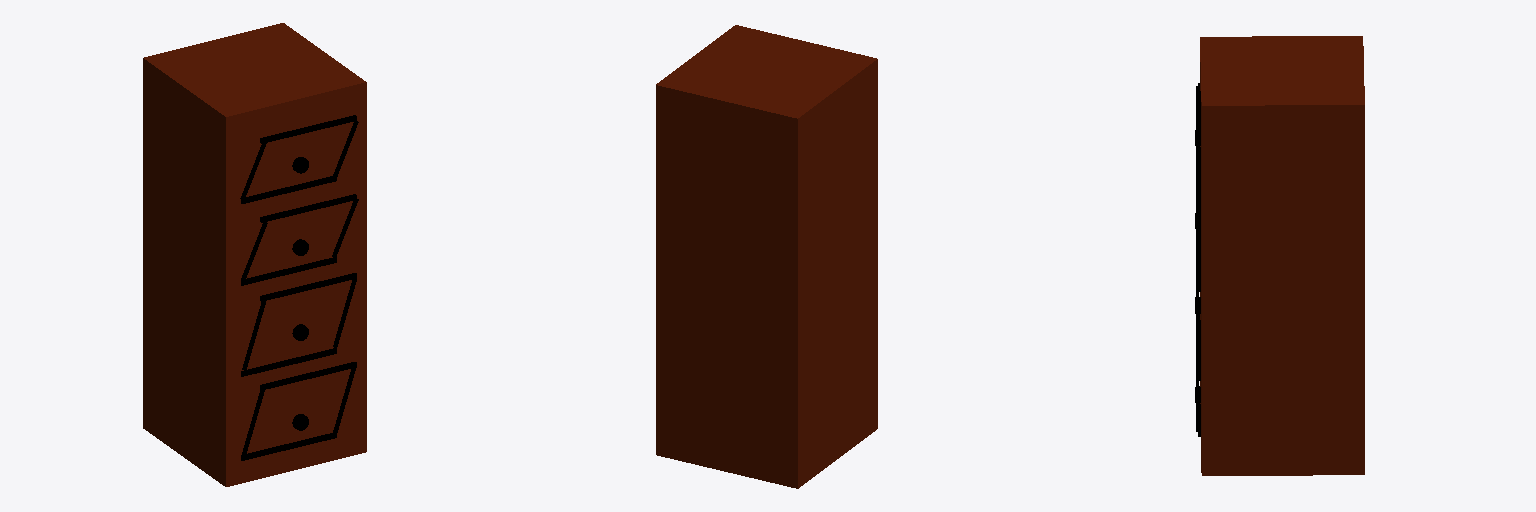
The picture shows the model from 3 angles: view 1: azimuth 30°, elevation 25°; view 2: azimuth 150°, elevation 25°; view 3: azimuth 270°, elevation 25°; orthographic projection.
Parts seen in each view (by area): view 1: pCube1, pCube13, pCube35, pCube40, pCube11, pCube39, pCube37, pCube50, pCube16; view 2: pCube1; view 3: pCube1.
Part boxes in pixels (x1,y1,x2,y2): pCube1: (143,23,366,486); pCube13: (260,194,356,222); pCube35: (241,348,336,376); pCube40: (260,273,356,301); pCube11: (260,115,356,143); pCube39: (241,257,336,285); pCube37: (241,433,336,460); pCube50: (241,176,336,203); pCube16: (260,362,356,389); pCube1: (656,25,877,488); pCube1: (1200,36,1364,475).
Size of the model in its own units: 6.06 by 15 by 6.24.
5 materials, 1 textured.